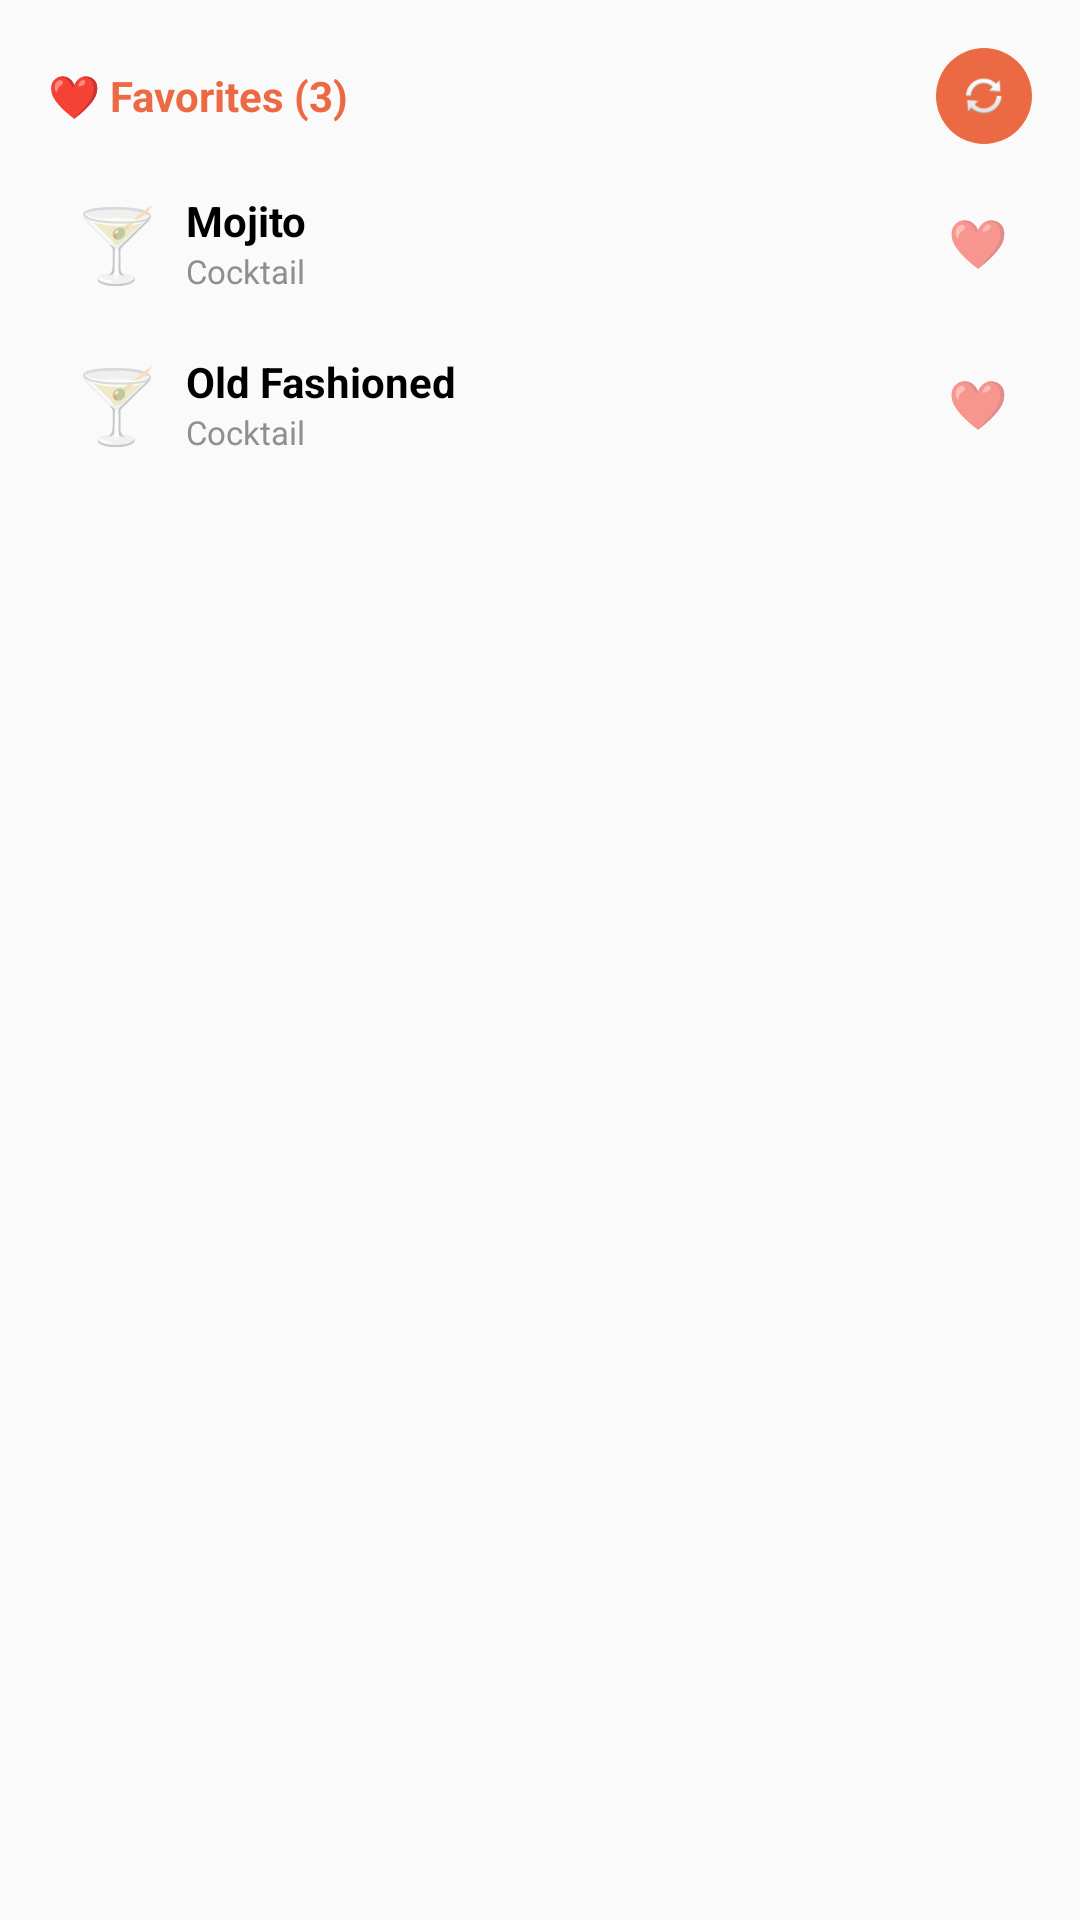

Point at icon controls on the screen. Image size 1080w x 1920h, points as (x,y).
Refresh: (984,96)
